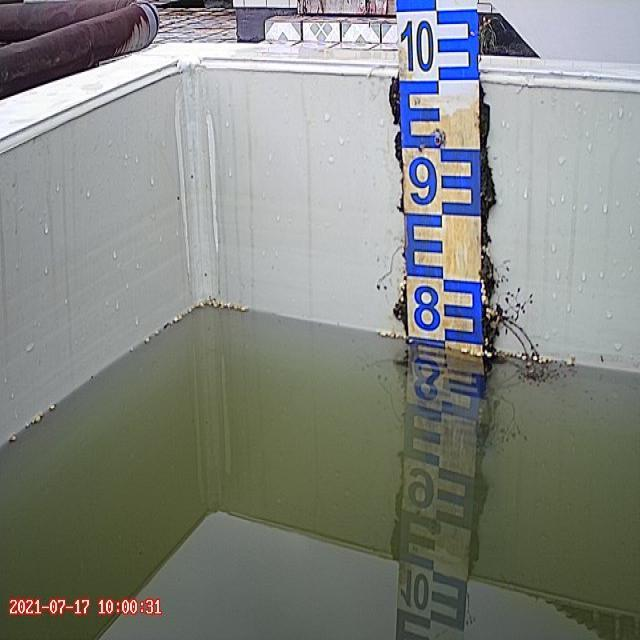ruler: (386, 0, 493, 367)
value: (402, 149, 440, 212), (403, 11, 438, 78), (408, 280, 444, 334)
